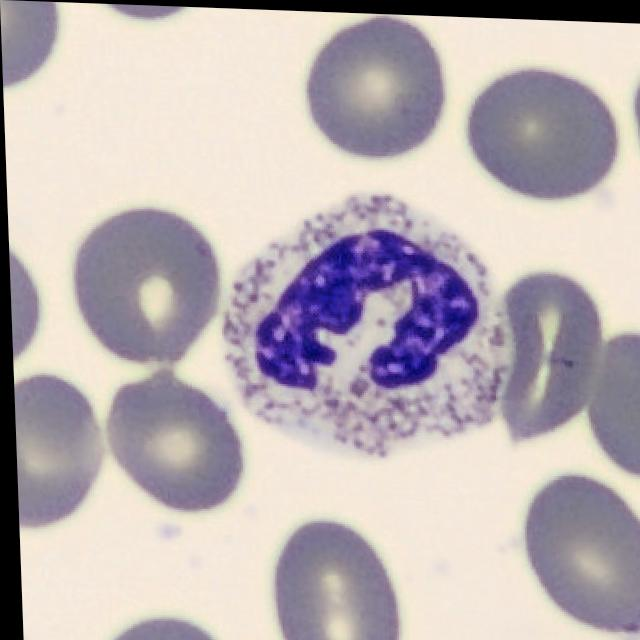Neutrofilo segmentado: (219, 192, 508, 458)
